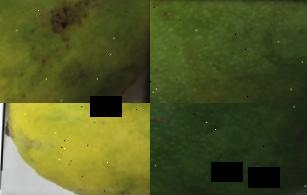PartiallyRipe: (0, 0, 150, 103), (0, 103, 150, 195)
Unripe: (150, 0, 307, 103), (150, 103, 307, 195)
